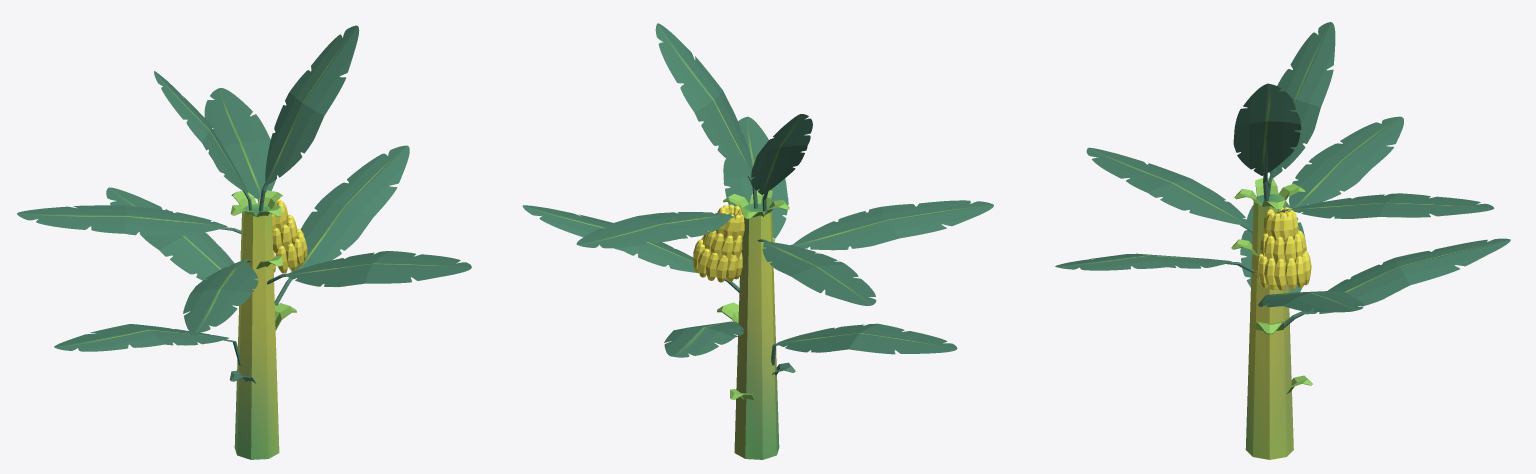
Rendered from banana_big.fbx.
3 views of the same model, side by side, from view 1: azimuth 30°, elevation 25°; view 2: azimuth 150°, elevation 25°; view 3: azimuth 270°, elevation 25° (orthographic). The views are drawn at different scales.
Parts seen in each view (by area): view 1: Cylinder; view 2: Cylinder; view 3: Cylinder.
Part boxes in pixels (x1=…): Cylinder: x1=17, y1=25, x2=471, y2=459; Cylinder: x1=522, y1=23, x2=993, y2=459; Cylinder: x1=1055, y1=22, x2=1510, y2=459.
Size of the model in its own units: 611 by 569 by 603.
